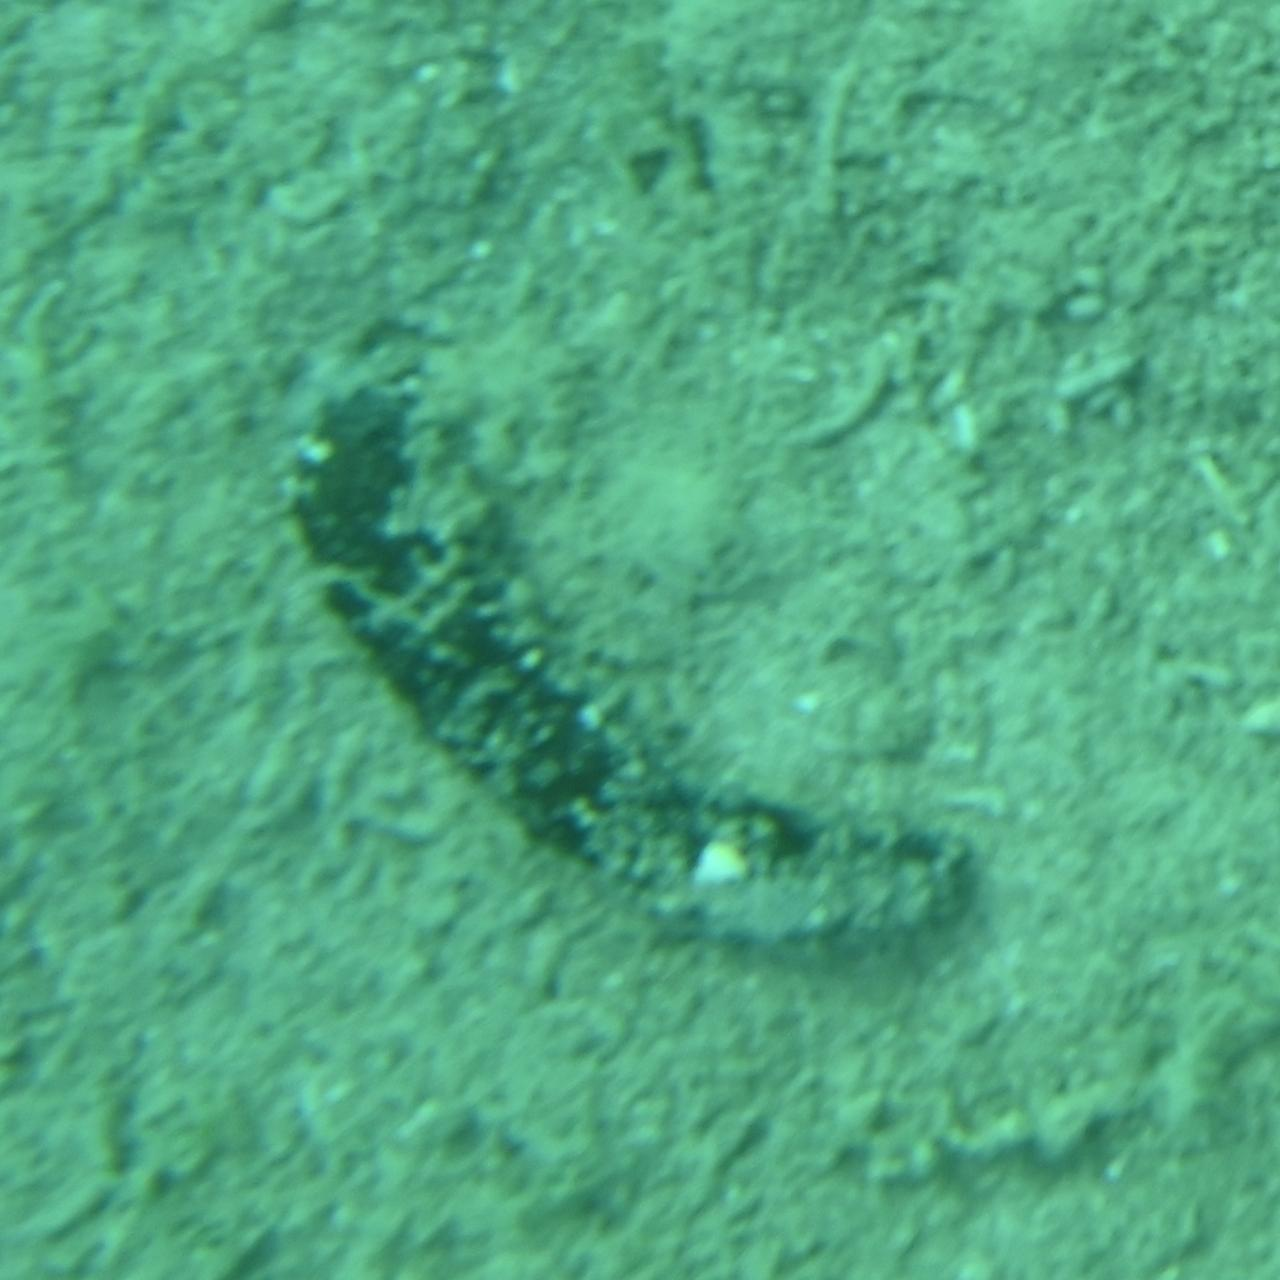Holothuria tubulosa: (290, 326, 990, 954)
